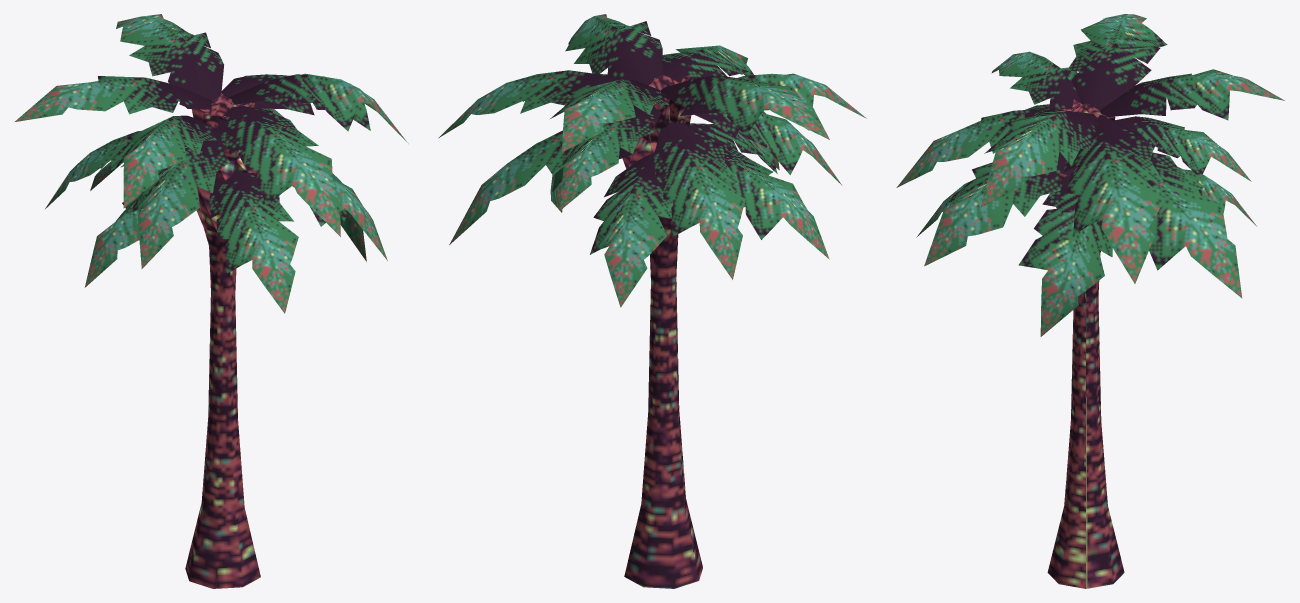
Rendered from palmtree_02.fbx.
3 renders of one model, left to right at view 1: azimuth 30°, elevation 25°; view 2: azimuth 150°, elevation 25°; view 3: azimuth 270°, elevation 25°, orthographic. The views are drawn at different scales.
Visible parts, largest first — view 1: fulltree_01; view 2: fulltree_01; view 3: fulltree_01.
Part boxes in pixels (x1,y1,x2,y2): fulltree_01: [15, 14, 408, 588]; fulltree_01: [438, 14, 866, 588]; fulltree_01: [896, 14, 1284, 588].
Size of the model in its own units: 12214 by 15655 by 11128.
1 material, 1 textured.
